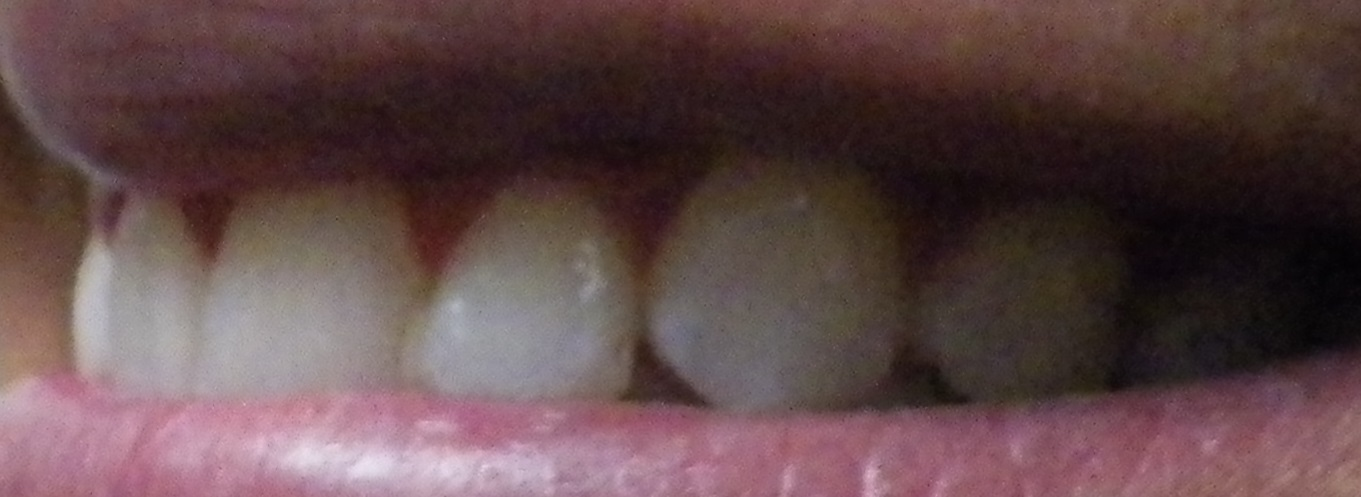boca: (68, 156, 1338, 411)
